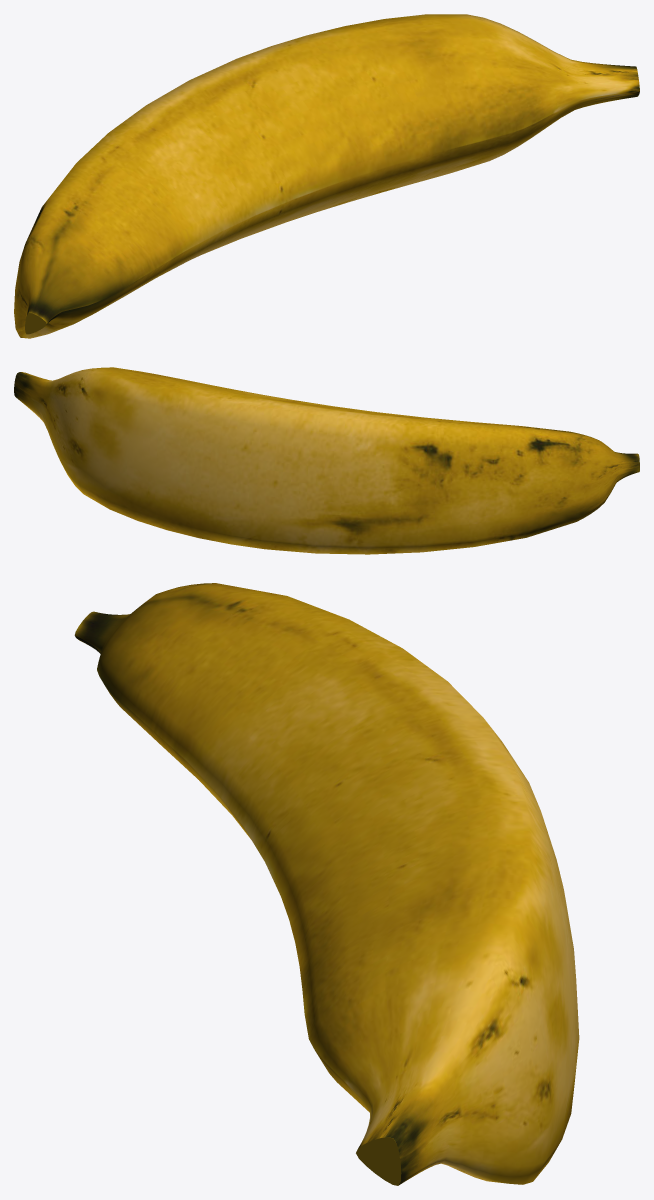
The model's file is banana.obj.
3 renders of one model, top to bottom at view 1: azimuth 30°, elevation 25°; view 2: azimuth 150°, elevation 25°; view 3: azimuth 270°, elevation 25°, orthographic. The views are drawn at different scales.
Parts seen in each view (by area): view 1: ____01; view 2: ____01; view 3: ____01.
Part boxes in pixels (<box>): ____01: <box>14,14,639,338</box>; ____01: <box>14,367,639,554</box>; ____01: <box>74,583,579,1185</box>.
Bounding box in the file's own units: 1.35 × 0.3198 × 0.5377.
Materials: 1 (1 with a texture image).
